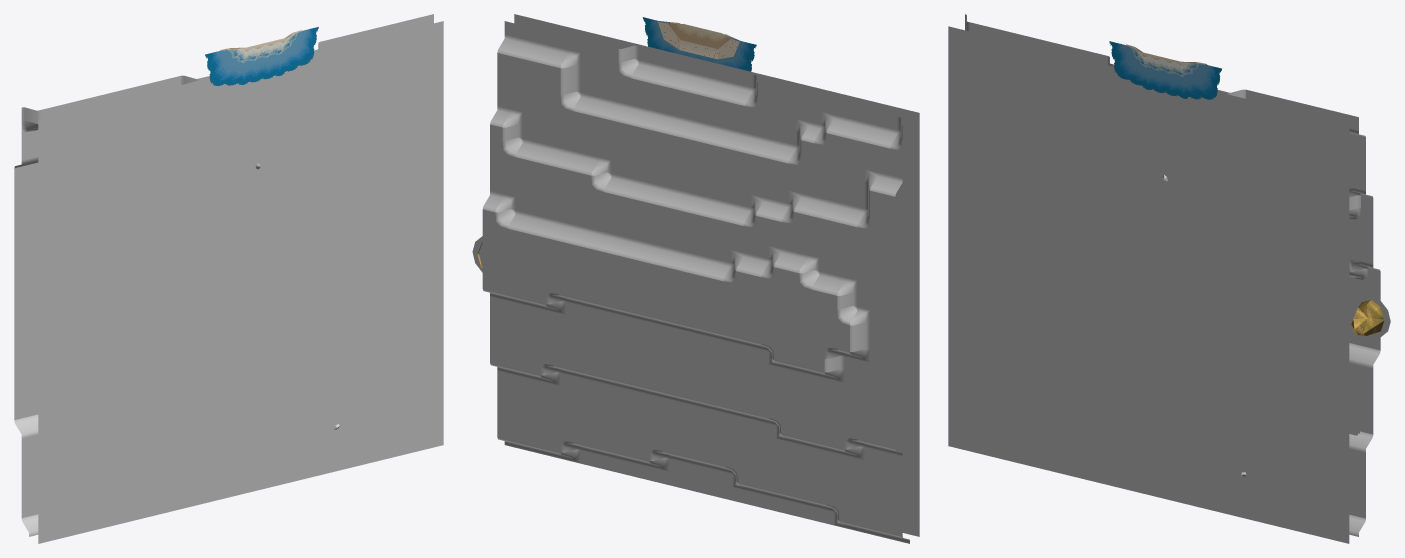
File: Barrier-Reef_02_11.obj
3 renders of one model, left to right at view 1: azimuth 30°, elevation 25°; view 2: azimuth 150°, elevation 25°; view 3: azimuth 330°, elevation 25°, orthographic.
Visible parts, largest first — view 1: map; view 2: map; view 3: map.
Boxes of the visible parts, box(x1,y1,x2,y2) form: map: box(14, 14, 443, 543); map: box(472, 14, 919, 543); map: box(948, 14, 1390, 543).
Size of the model in its own units: 32.92 by 34 by 5.06.
